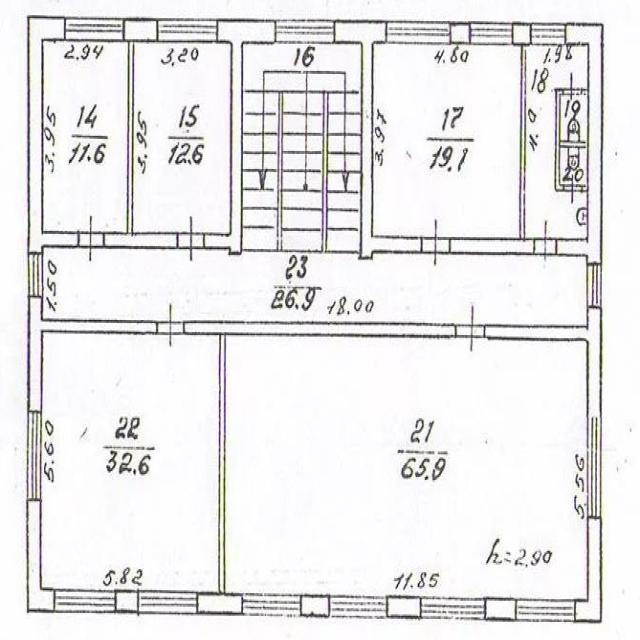Bathrooms: (525, 45, 588, 239), (561, 95, 588, 140), (560, 147, 587, 185)
Corridors: (42, 248, 587, 324)
Doors: (456, 304, 485, 355), (421, 218, 450, 268), (177, 213, 204, 266), (77, 214, 104, 263), (156, 303, 184, 349), (534, 219, 557, 262), (562, 69, 582, 103), (563, 173, 583, 205)
LBwalls: (334, 20, 422, 261), (204, 19, 276, 257), (27, 15, 79, 254), (556, 22, 604, 263), (26, 500, 55, 613), (574, 517, 602, 623), (28, 296, 43, 410), (587, 307, 601, 416), (450, 237, 534, 255), (103, 233, 177, 248), (197, 591, 243, 615), (123, 17, 157, 43), (485, 597, 517, 622), (387, 596, 420, 619), (300, 594, 329, 618), (116, 589, 138, 613), (450, 21, 470, 45), (513, 22, 531, 45)
Offices: (225, 337, 587, 600), (42, 333, 219, 591), (373, 43, 519, 237), (133, 43, 230, 233), (43, 41, 128, 233)
Stairs: (241, 43, 361, 259)
Walls: (184, 320, 457, 594), (555, 89, 588, 192), (42, 318, 157, 333), (484, 326, 588, 340), (521, 45, 525, 238), (581, 89, 587, 96), (582, 185, 587, 192)
Windows: (386, 21, 450, 44), (65, 17, 123, 42), (275, 20, 335, 44), (156, 19, 218, 42), (54, 590, 116, 613), (138, 590, 197, 614), (420, 598, 486, 619), (516, 599, 575, 622), (242, 593, 301, 616), (329, 595, 387, 618), (587, 416, 600, 518), (28, 411, 42, 501), (470, 22, 512, 45), (531, 24, 566, 44), (587, 263, 602, 308), (28, 252, 43, 297)
